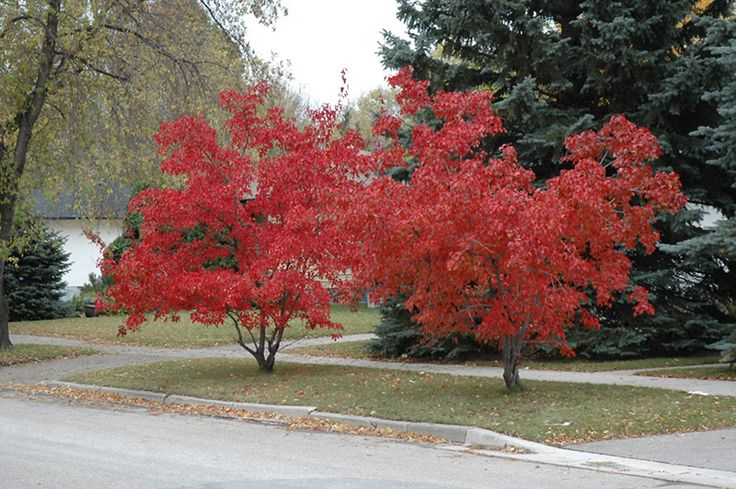tree: (345, 88, 688, 391), (97, 86, 399, 379)
